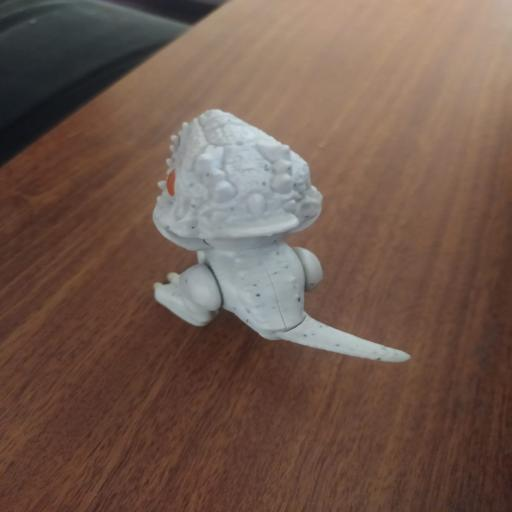Dinosaurio: (139, 103, 421, 378)
